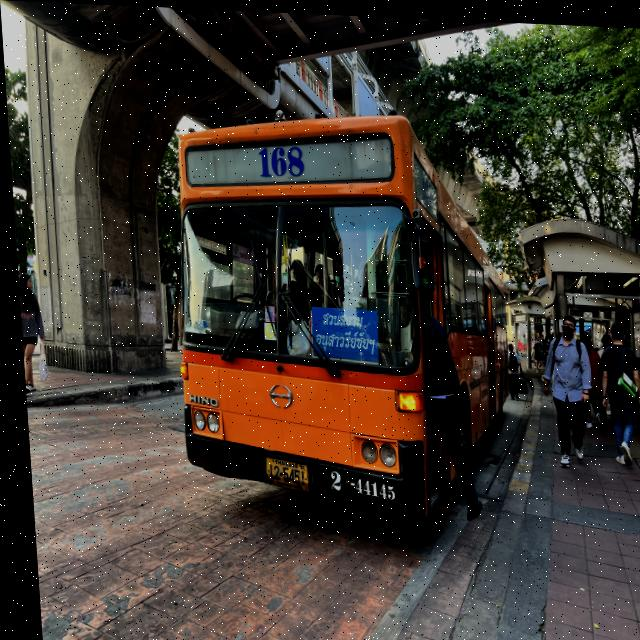BMTA-bus: (174, 112, 503, 518)
Bus Line Number: (247, 136, 311, 184)
Bus Side Number: (319, 467, 393, 500)
Destination Sign: (302, 304, 378, 363)
